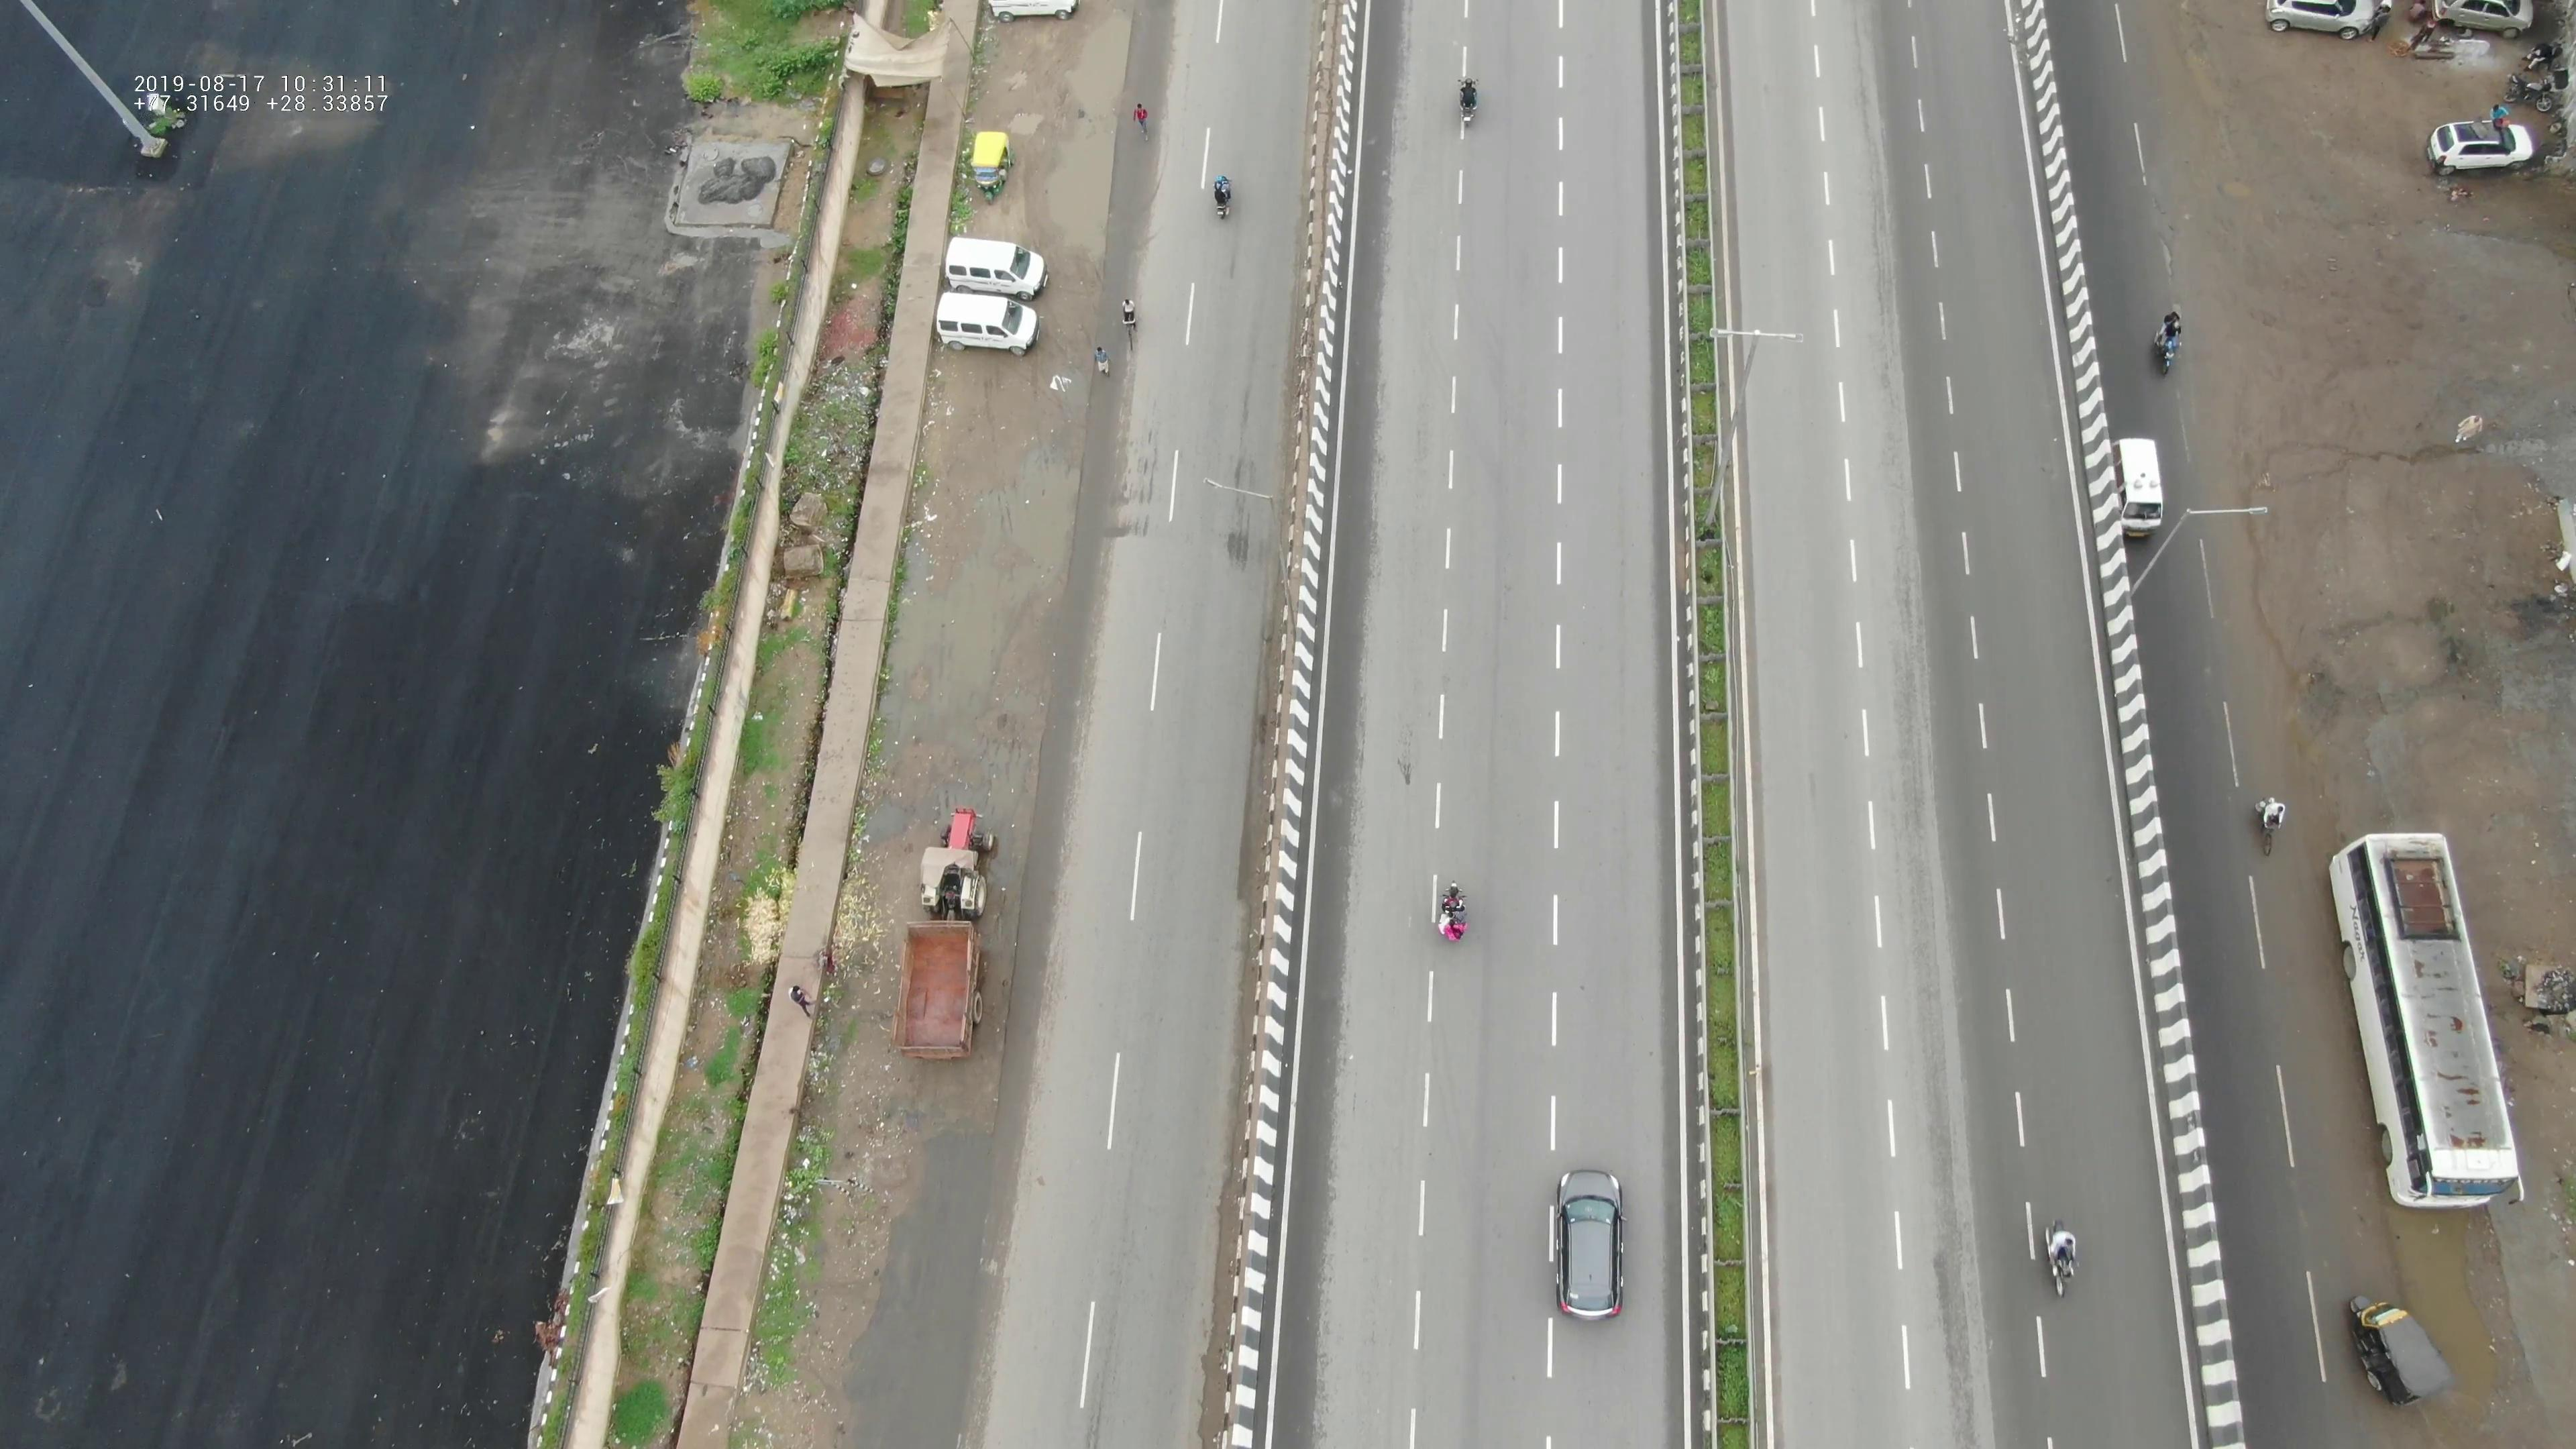Waterlogging: (870, 425, 1088, 747), (1021, 9, 1148, 239)
